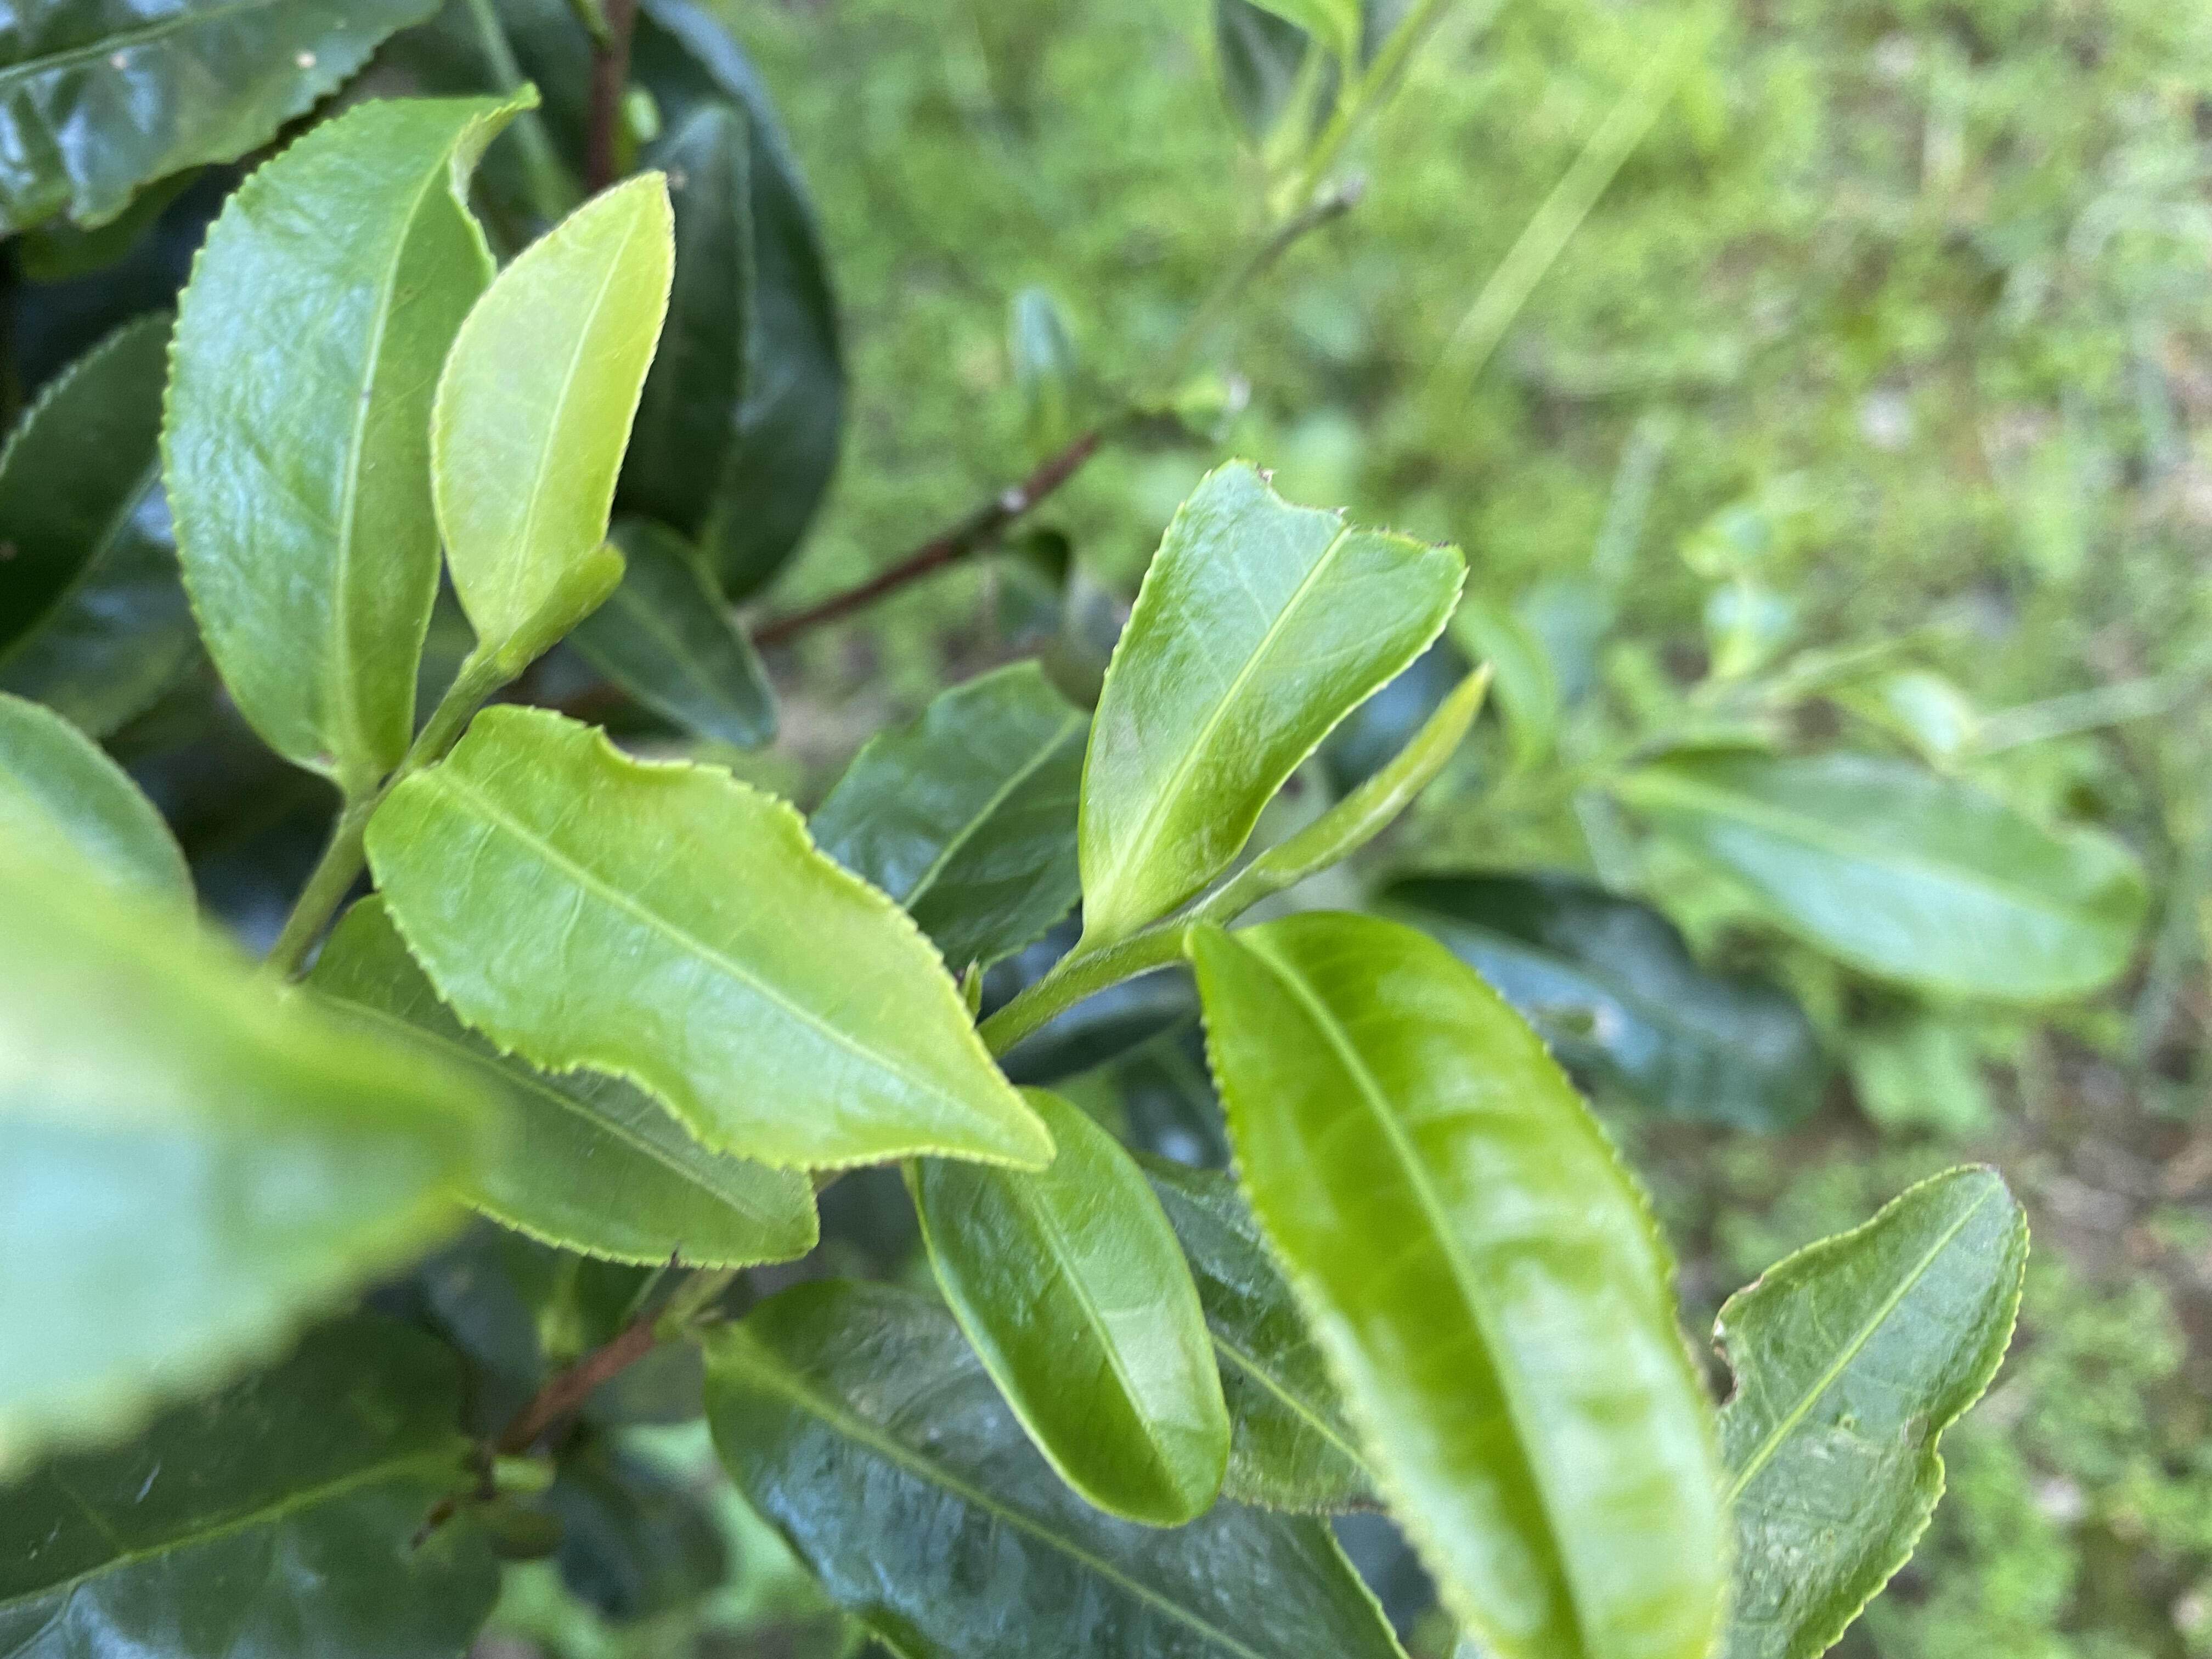chihuo_high: (1071, 451, 1470, 945)
chihuo_low: (1702, 1161, 2033, 1659)
healthy: (1186, 917, 1733, 1654), (359, 701, 1059, 1185), (155, 77, 547, 796), (909, 1080, 1238, 1527), (423, 167, 683, 641)
